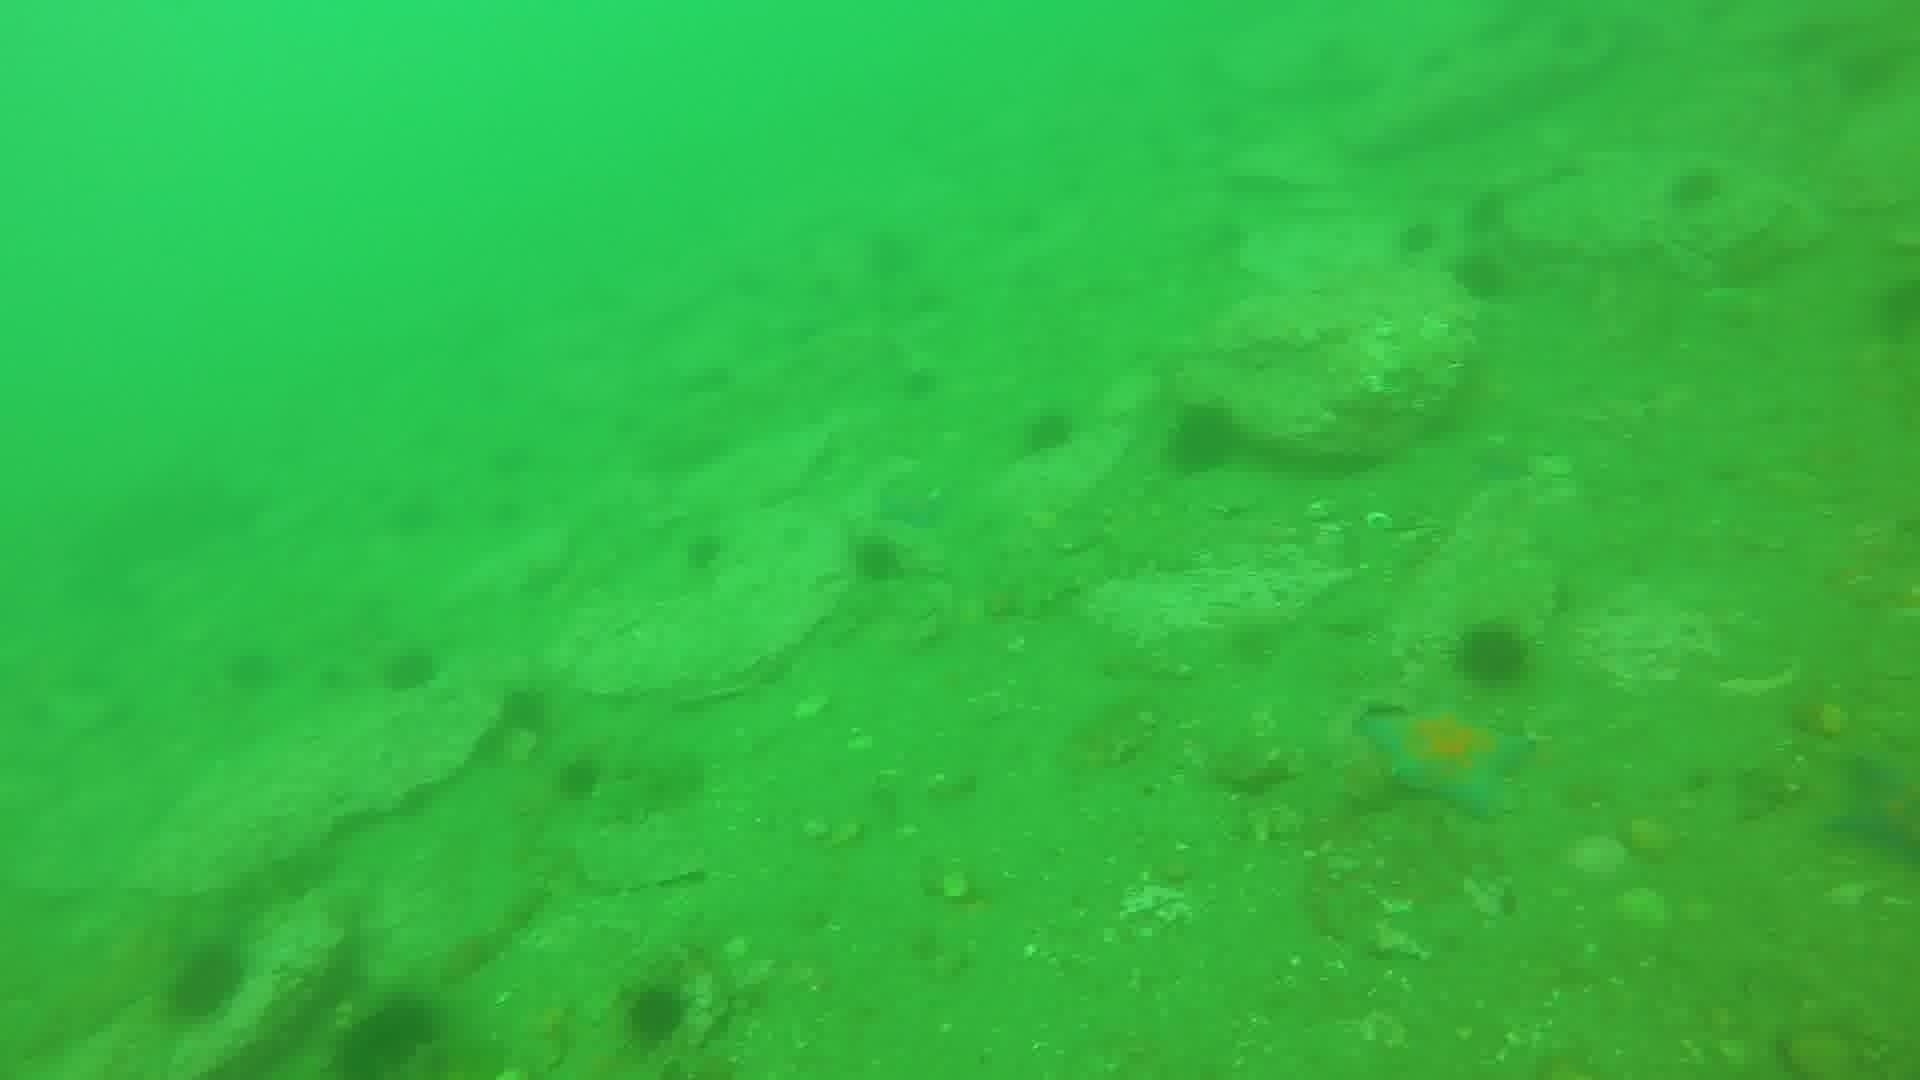echinus: (330, 992, 444, 1075), (161, 939, 251, 1026), (1160, 400, 1245, 480), (1451, 618, 1535, 691), (618, 980, 694, 1051), (1448, 247, 1516, 305), (845, 530, 910, 589), (377, 642, 444, 699), (1015, 404, 1081, 460), (495, 680, 556, 740), (219, 644, 284, 699), (1663, 161, 1729, 214), (551, 752, 607, 806), (1458, 186, 1513, 239), (678, 527, 731, 578), (1393, 214, 1443, 261)
holothurian: (593, 744, 709, 829)
starfish: (1360, 698, 1535, 822), (1820, 748, 1917, 873), (872, 473, 949, 534)
